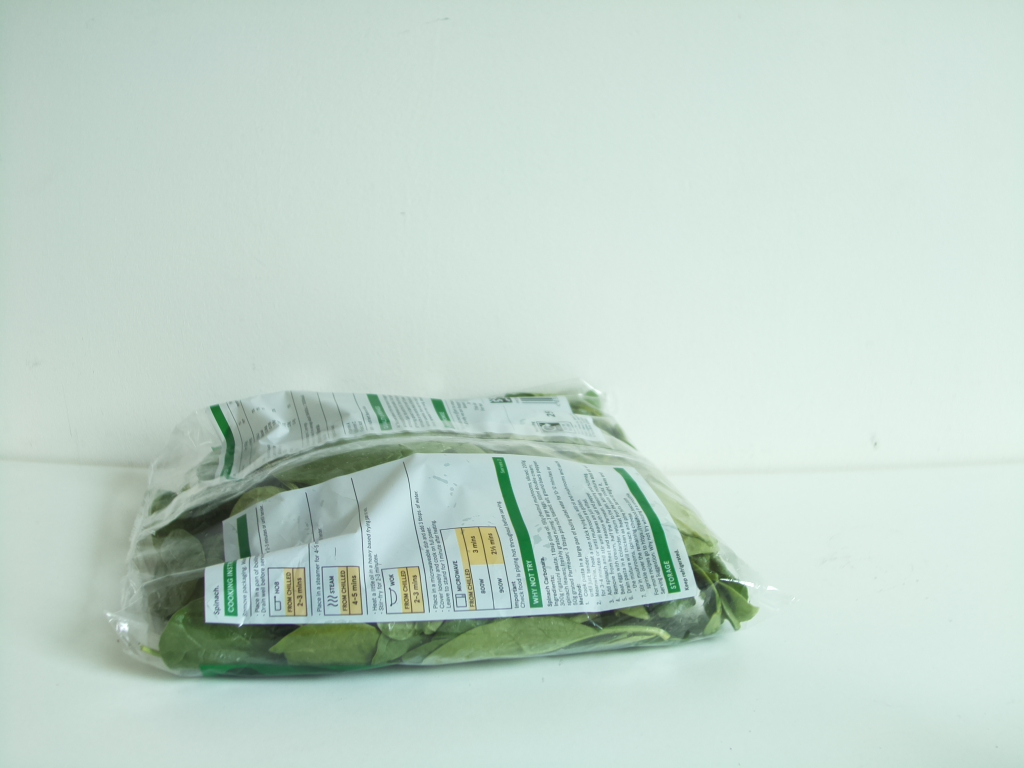salad: (142, 382, 759, 677)
